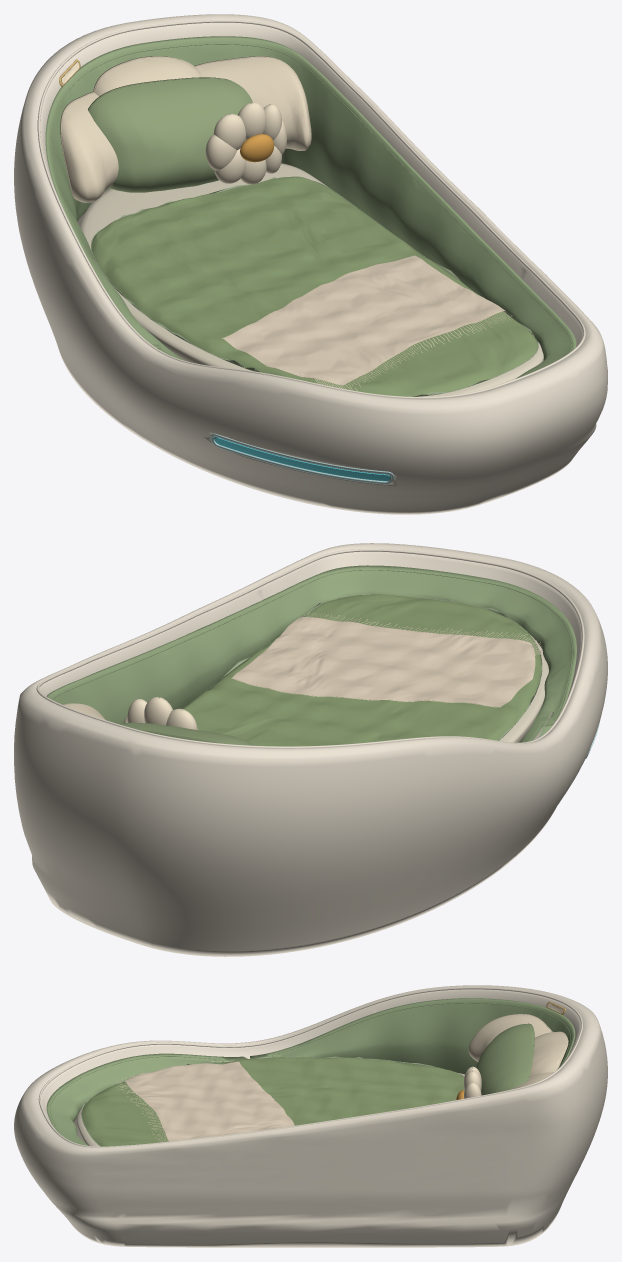
Rendered from bed.glb.
The picture shows the model from 3 angles, top to bottom: view 1: azimuth 30°, elevation 25°; view 2: azimuth 150°, elevation 25°; view 3: azimuth 270°, elevation 25°; orthographic projection. The views are drawn at different scales.
Parts seen in each view (by area): view 1: part_000, part_012, part_003, part_030, part_022, part_011, part_028, part_024, part_001, part_026, part_007, part_002 (+6 smaller); view 2: part_000, part_003, part_012, part_030, part_001, part_022, part_011, part_004, part_013, part_010; view 3: part_000, part_003, part_012, part_030, part_022, part_001, part_024, part_026, part_004.
Part boxes in pixels (bbox=[...]): part_000: bbox=[14, 14, 607, 514]; part_012: bbox=[91, 176, 537, 396]; part_003: bbox=[45, 36, 576, 378]; part_030: bbox=[222, 255, 504, 384]; part_022: bbox=[88, 77, 252, 192]; part_011: bbox=[80, 163, 543, 396]; part_028: bbox=[194, 56, 311, 150]; part_024: bbox=[60, 92, 118, 202]; part_001: bbox=[37, 20, 585, 398]; part_026: bbox=[93, 56, 201, 96]; part_007: bbox=[210, 433, 394, 484]; part_002: bbox=[214, 437, 389, 481]; part_000: bbox=[14, 543, 607, 956]; part_003: bbox=[46, 565, 576, 742]; part_012: bbox=[182, 594, 541, 746]; part_030: bbox=[232, 617, 535, 706]; part_001: bbox=[36, 549, 584, 748]; part_022: bbox=[118, 722, 255, 745]; part_011: bbox=[499, 635, 548, 742]; part_004: bbox=[52, 569, 572, 741]; part_013: bbox=[144, 697, 172, 725]; part_010: bbox=[205, 593, 542, 740]; part_000: bbox=[14, 985, 607, 1247]; part_003: bbox=[46, 998, 575, 1145]; part_012: bbox=[81, 1057, 464, 1146]; part_030: bbox=[125, 1061, 294, 1141]; part_022: bbox=[476, 1024, 534, 1095]; part_001: bbox=[38, 987, 583, 1147]; part_024: bbox=[468, 1014, 552, 1061]; part_026: bbox=[530, 1031, 568, 1075]; part_004: bbox=[50, 1003, 570, 1135].
Bounding box in the file's own units: 1.16 × 0.6892 × 2.18.
